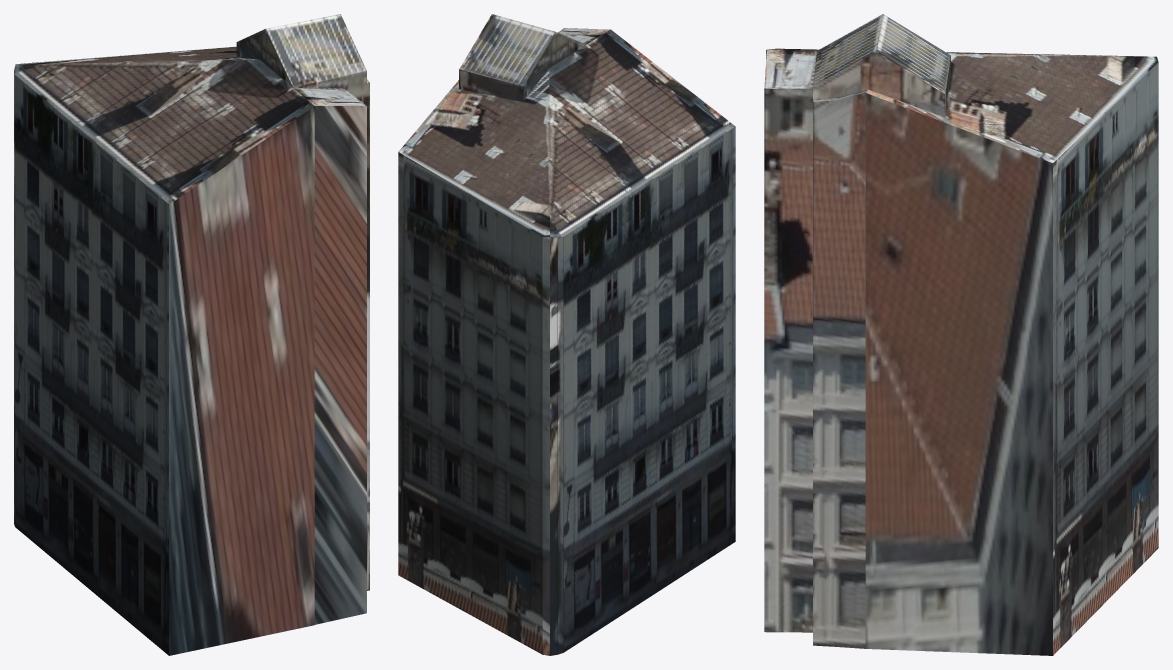
3 views of the same model, side by side, from view 1: azimuth 30°, elevation 25°; view 2: azimuth 150°, elevation 25°; view 3: azimuth 270°, elevation 25° (orthographic). The views are drawn at different scales.
Visible parts, largest first — view 1: Z_UP; view 2: Z_UP; view 3: Z_UP.
Part boxes in pixels (left/top/right/bottom): Z_UP: left=14, top=14, right=369, bottom=655; Z_UP: left=398, top=14, right=735, bottom=655; Z_UP: left=764, top=14, right=1158, bottom=655.
Bounding box in the file's own units: 12.12 × 27.05 × 16.26.
2 materials, 1 textured.
